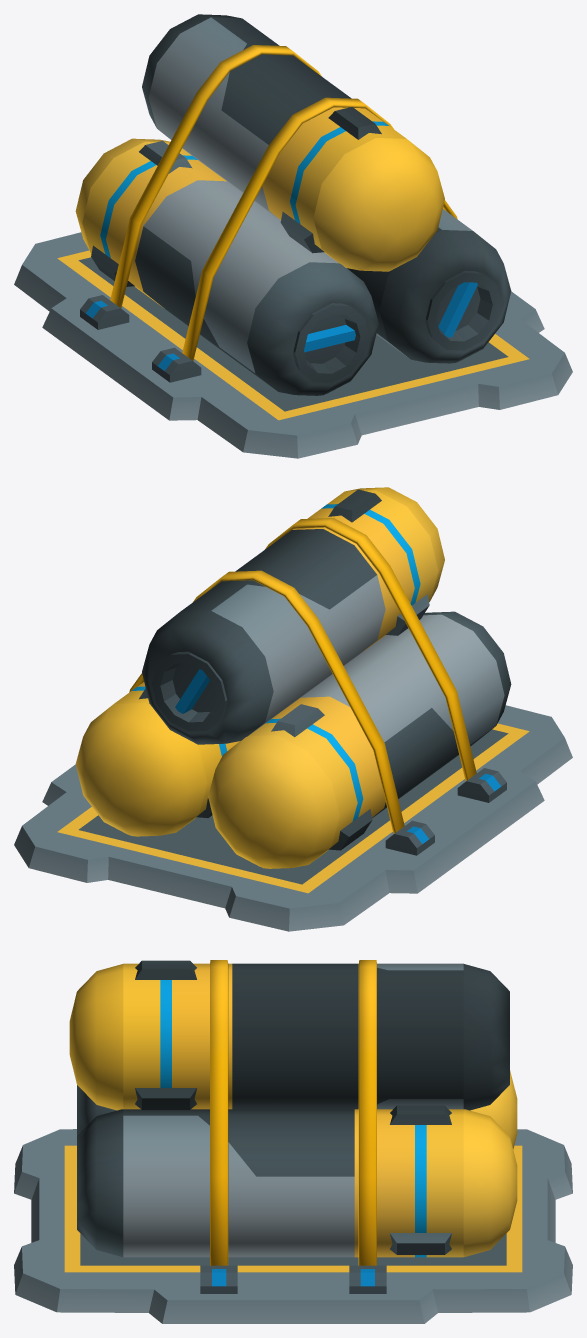
File: Baloon_007.fbx
3 renders of one model, top to bottom at view 1: azimuth 30°, elevation 25°; view 2: azimuth 150°, elevation 25°; view 3: azimuth 270°, elevation 25°, orthographic. The views are drawn at different scales.
Visible parts, largest first — view 1: Baloon_007; view 2: Baloon_007; view 3: Baloon_007.
Part boxes in pixels (box(x1,y1,x2,y2)): Baloon_007: box(14, 14, 572, 458); Baloon_007: box(14, 487, 572, 931); Baloon_007: box(14, 960, 572, 1323).
Bounding box in the file's own units: 120 × 150 × 78.27.
